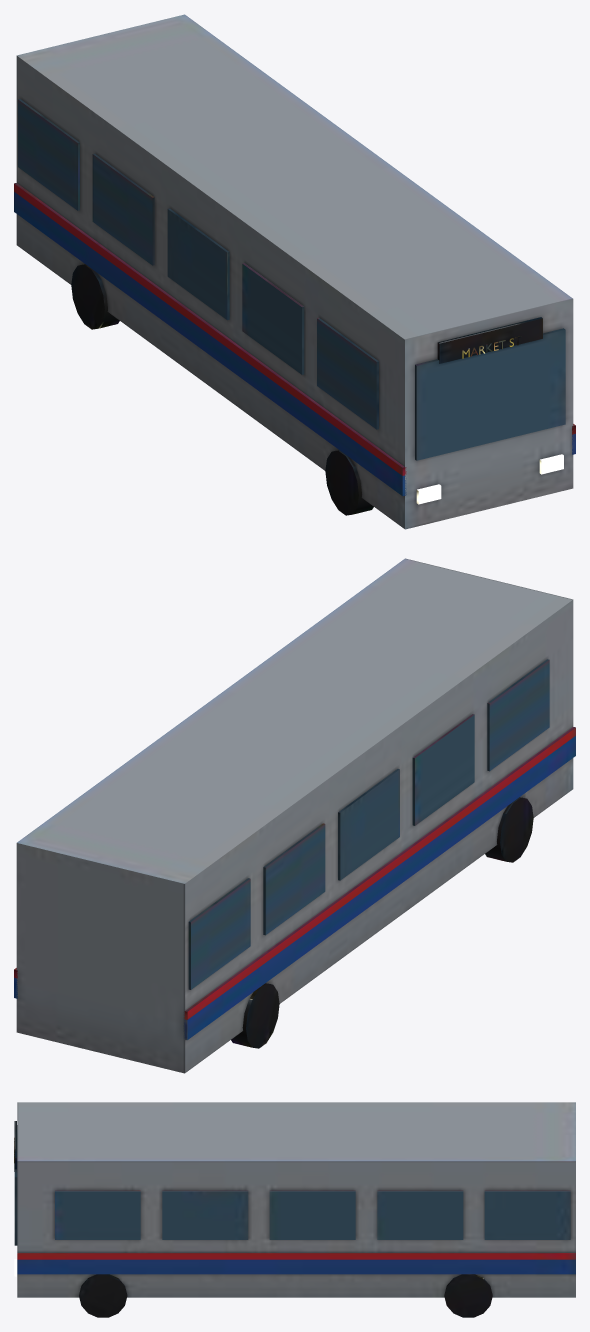
File: autobus_septa.glb
The picture shows the model from 3 angles, top to bottom: view 1: azimuth 30°, elevation 25°; view 2: azimuth 150°, elevation 25°; view 3: azimuth 270°, elevation 25°; orthographic projection. The views are drawn at different scales.
Parts seen in each view (by area): view 1: autobus_septa; view 2: autobus_septa; view 3: autobus_septa.
Part boxes in pixels (<box>): autobus_septa: <box>14,14,575,529</box>; autobus_septa: <box>14,558,575,1073</box>; autobus_septa: <box>14,1102,575,1317</box>.
Size of the model in its own units: 2.7 by 3.19 by 10.46.
1 material, 1 textured.
